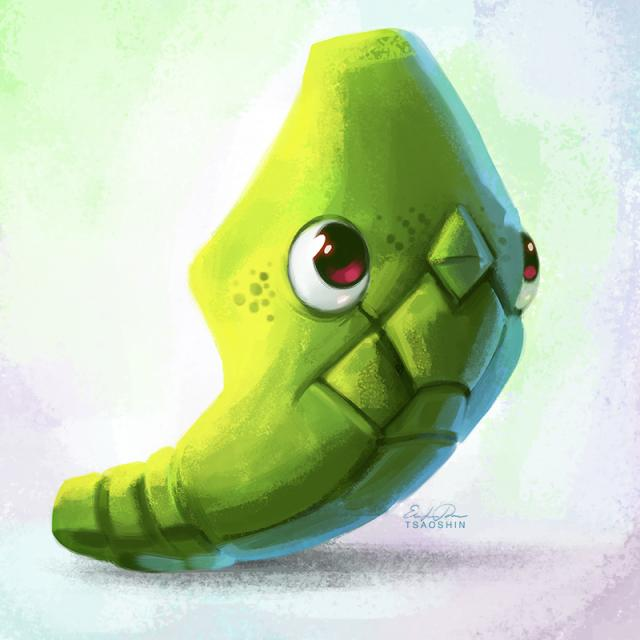Metapod: (54, 28, 539, 570)
